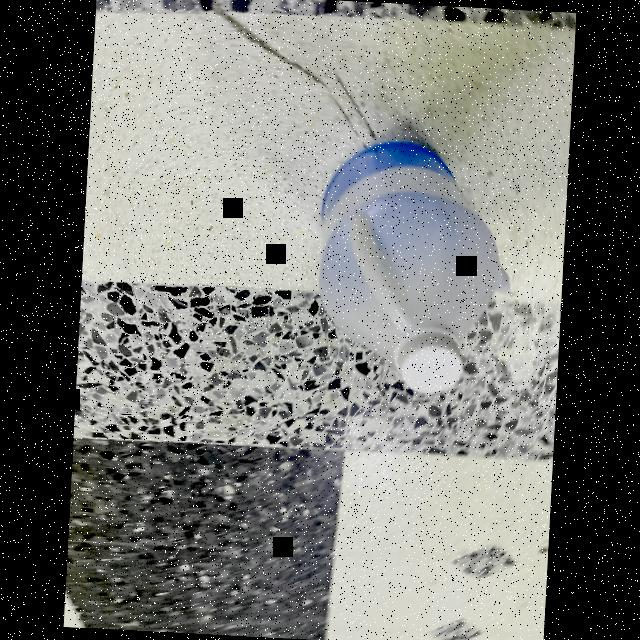chemical_plastic_gallon: (298, 125, 514, 438)
